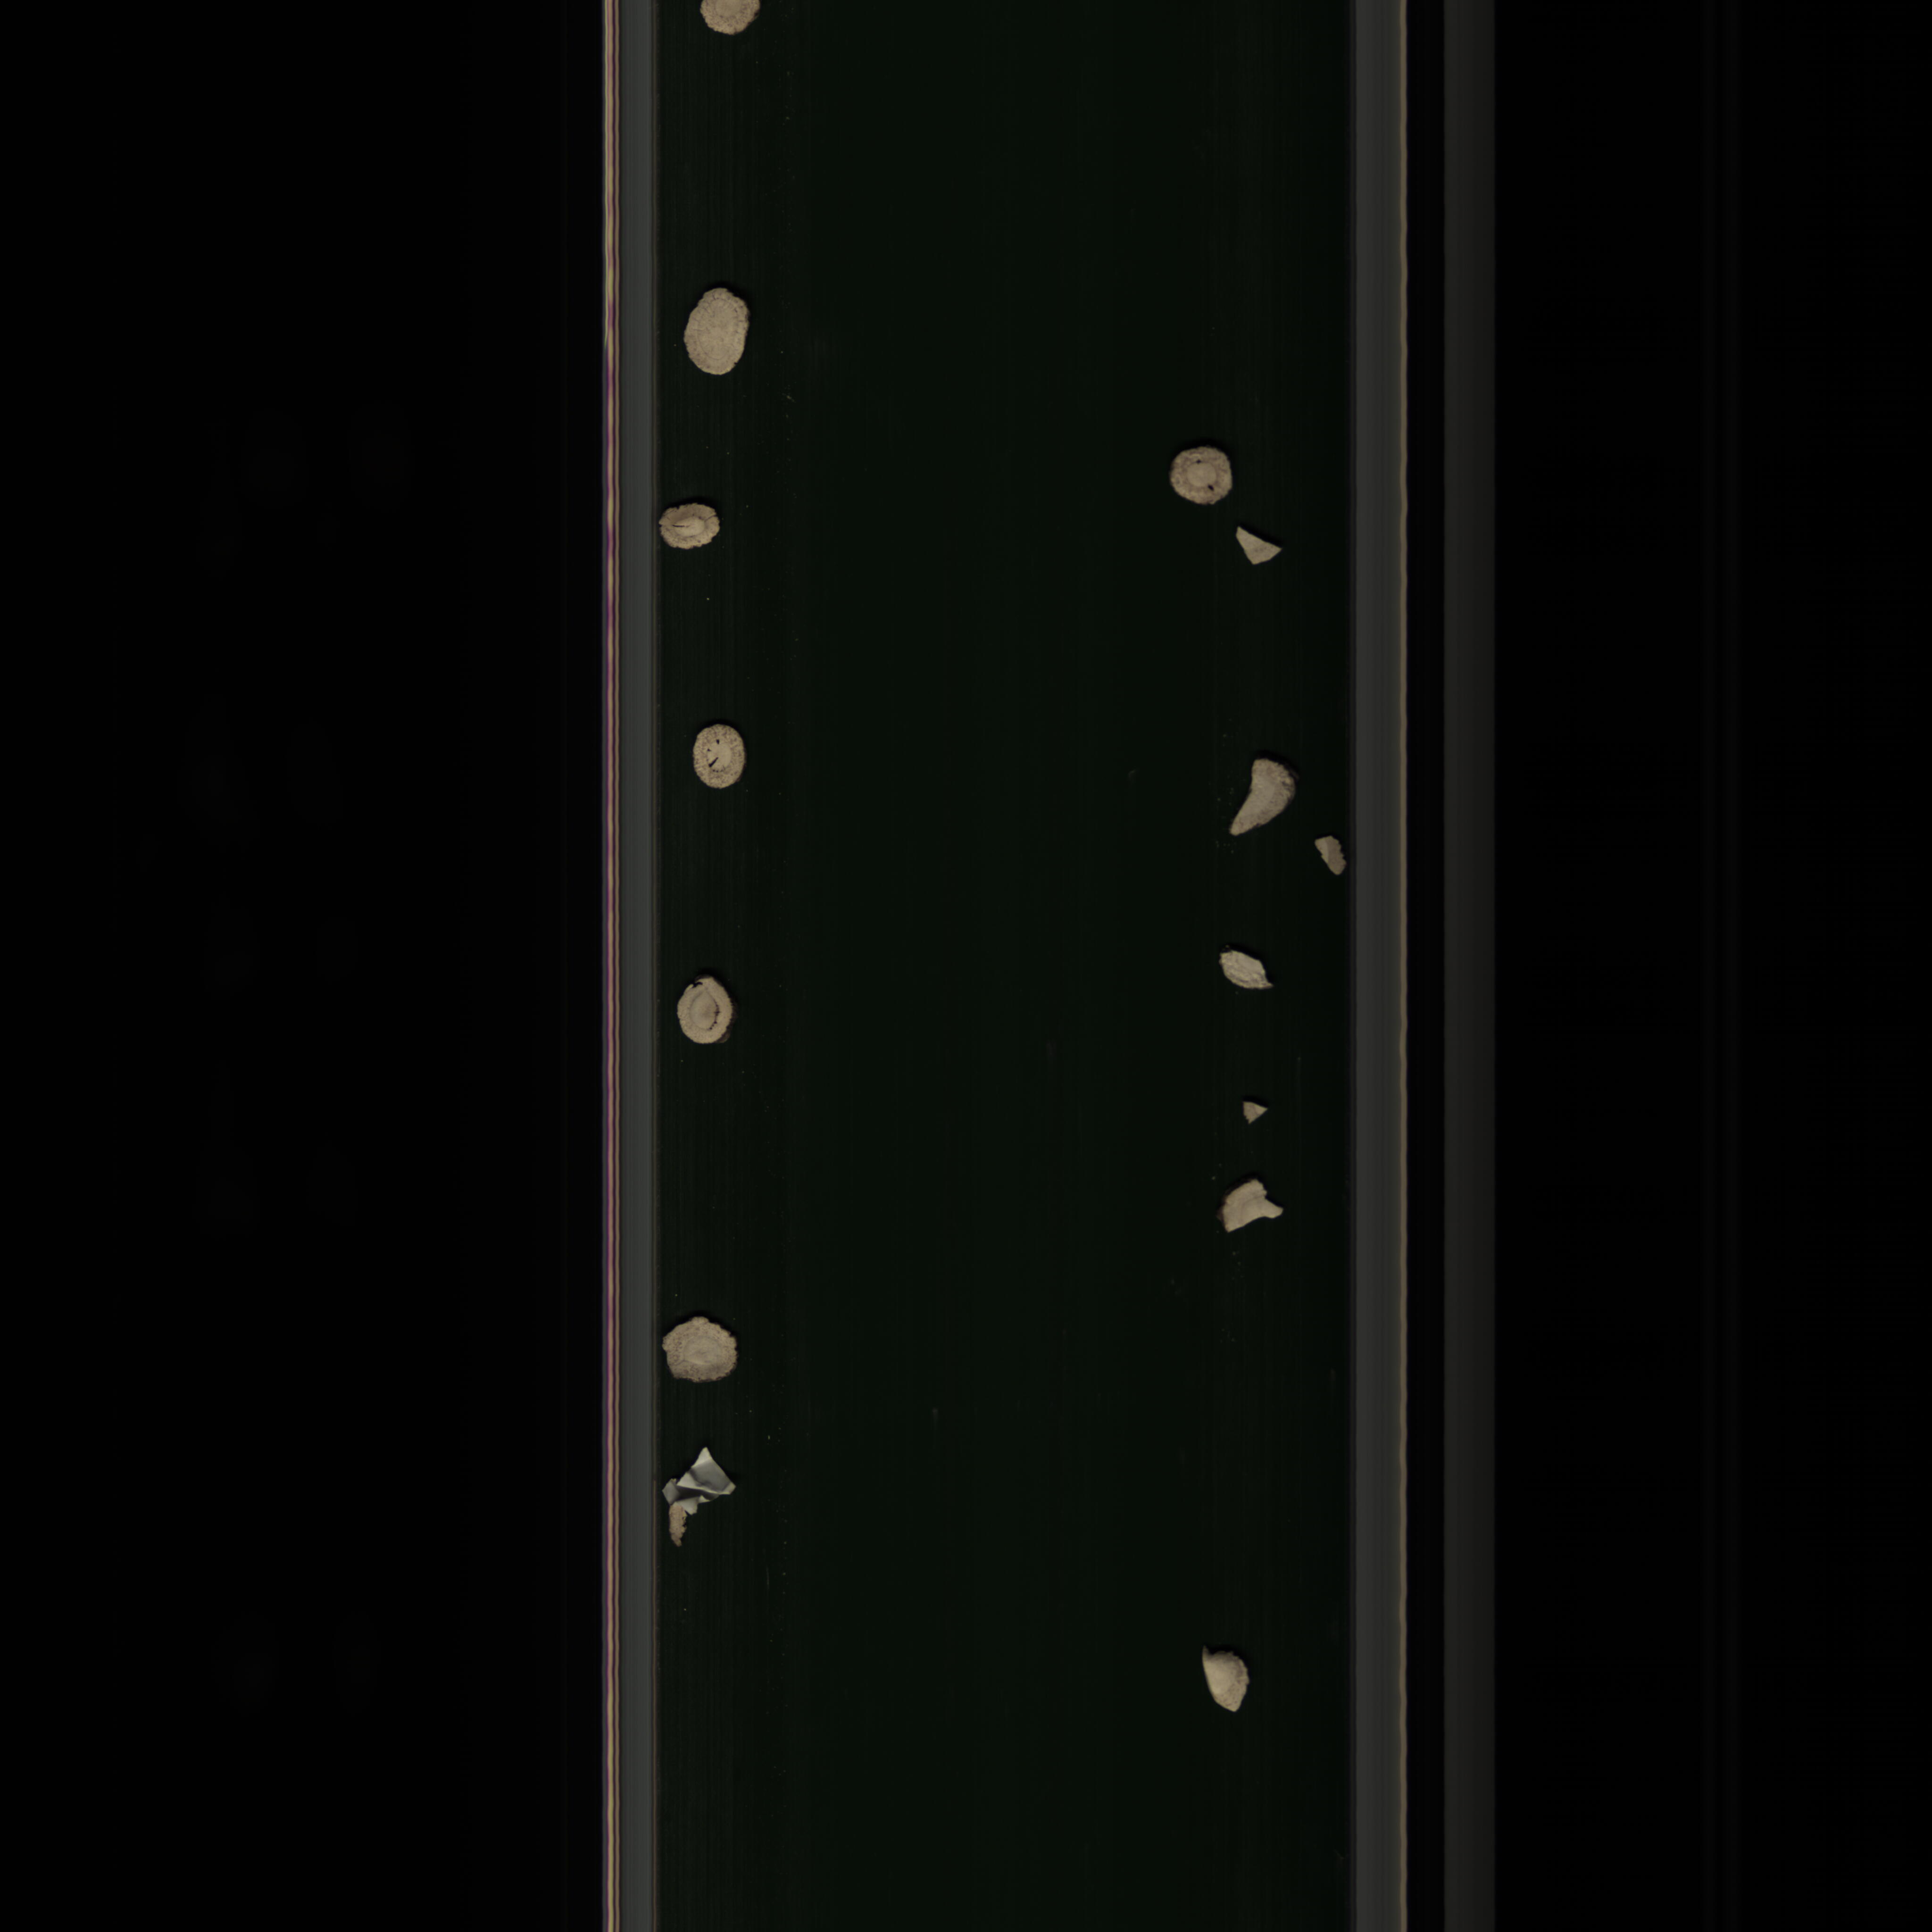debris: (656, 1440, 736, 1555), (1217, 752, 1304, 844), (1184, 1642, 1254, 1725), (1210, 1171, 1293, 1237), (1208, 941, 1279, 994), (1233, 520, 1281, 568), (1307, 830, 1350, 878), (1230, 1092, 1277, 1131)
hole: (1161, 435, 1242, 511), (685, 720, 754, 796)
